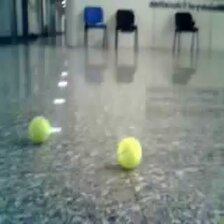tennis: (116, 137, 142, 169), (27, 116, 50, 143)
